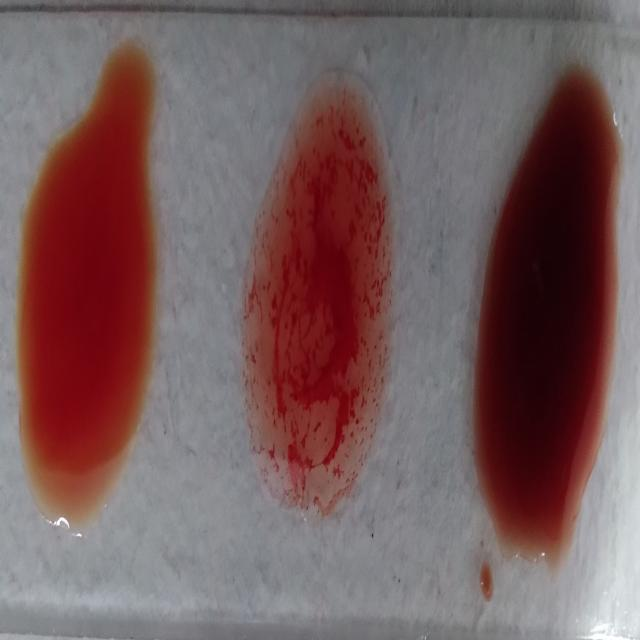D: (240, 79, 400, 516)
